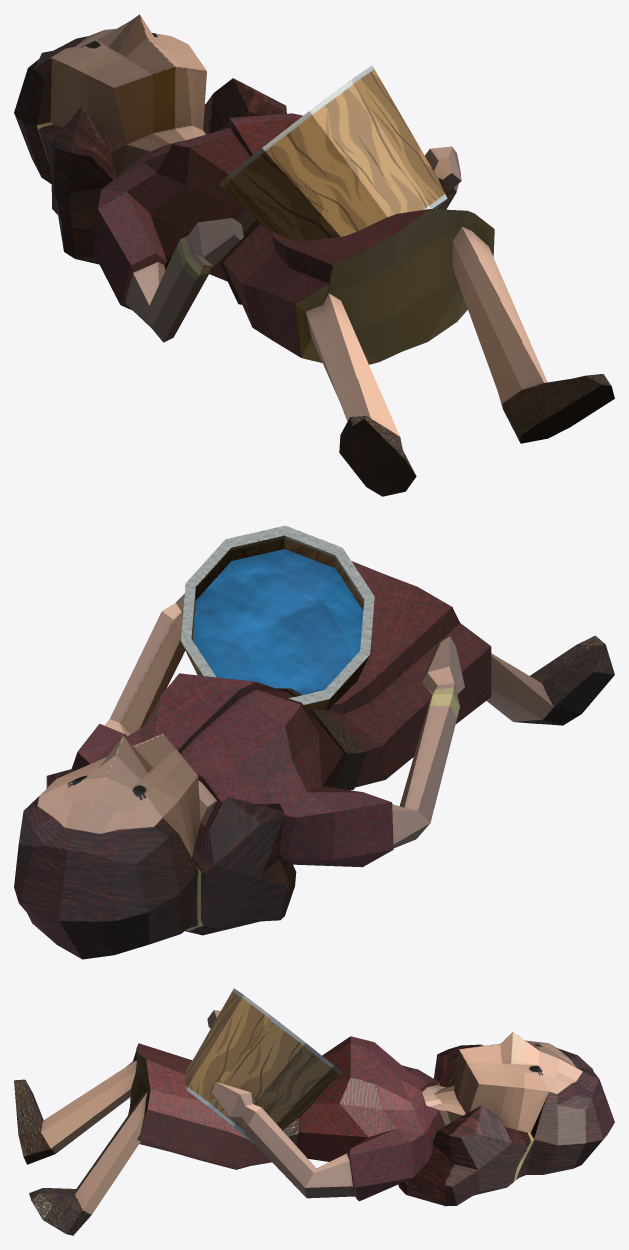
Rendered from Walk_Aldeana_13.obj.
The picture shows the model from 3 angles, top to bottom: view 1: azimuth 30°, elevation 25°; view 2: azimuth 150°, elevation 25°; view 3: azimuth 270°, elevation 25°; orthographic projection. The views are drawn at different scales.
Visible parts, largest first — view 1: Aldeana.001; view 2: Aldeana.001; view 3: Aldeana.001.
Boxes of the visible parts, x1,y1,x2,y2 form: Aldeana.001: (14, 14, 614, 496); Aldeana.001: (14, 525, 614, 959); Aldeana.001: (14, 988, 614, 1235).
Size of the model in its own units: 0.9841 by 0.9153 by 2.34.
